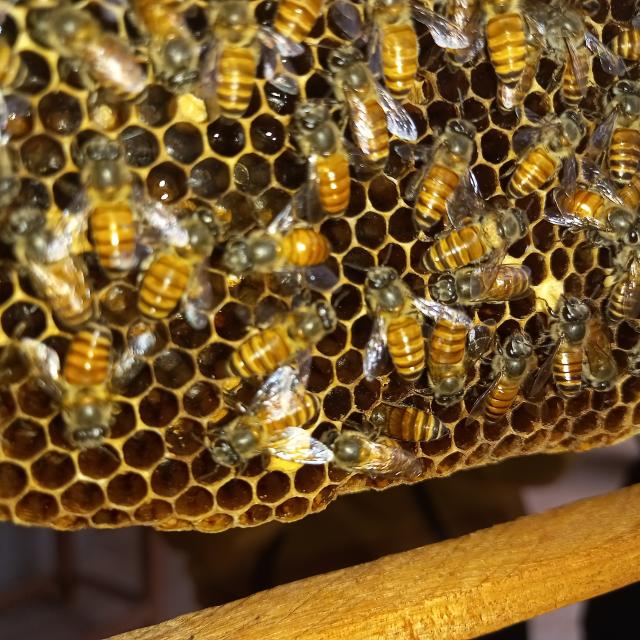honeybee: (31, 0, 142, 108), (188, 385, 326, 461), (10, 198, 87, 314), (81, 125, 140, 268), (218, 223, 345, 280), (58, 322, 124, 431), (207, 0, 264, 125), (505, 108, 585, 197), (234, 314, 352, 372), (414, 119, 480, 222), (142, 219, 208, 320), (360, 256, 412, 383), (293, 102, 352, 207), (429, 203, 525, 267), (344, 46, 391, 172), (144, 0, 203, 99), (541, 0, 595, 100), (424, 297, 467, 413), (484, 2, 531, 94), (360, 388, 450, 436), (546, 290, 586, 398), (486, 324, 527, 428), (319, 428, 402, 475), (380, 0, 419, 99), (270, 0, 320, 57), (608, 27, 640, 59)
